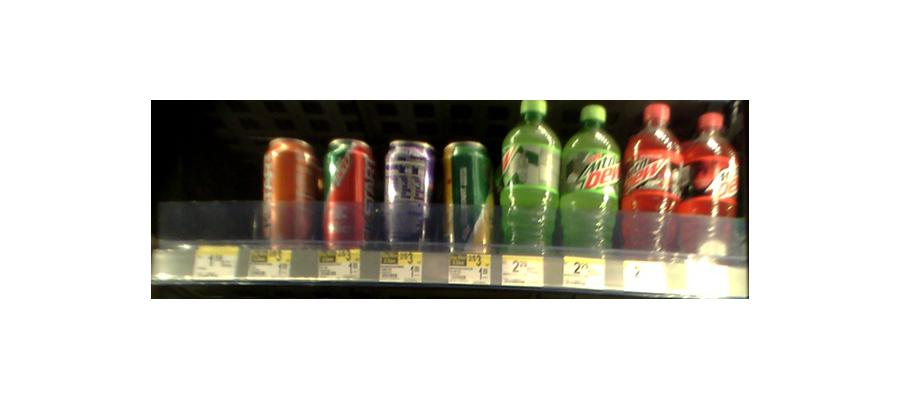bottle: (498, 99, 562, 253), (621, 104, 680, 258), (559, 105, 619, 253), (684, 107, 735, 260), (261, 137, 317, 248), (442, 139, 493, 253), (382, 140, 436, 246), (321, 140, 373, 249)
